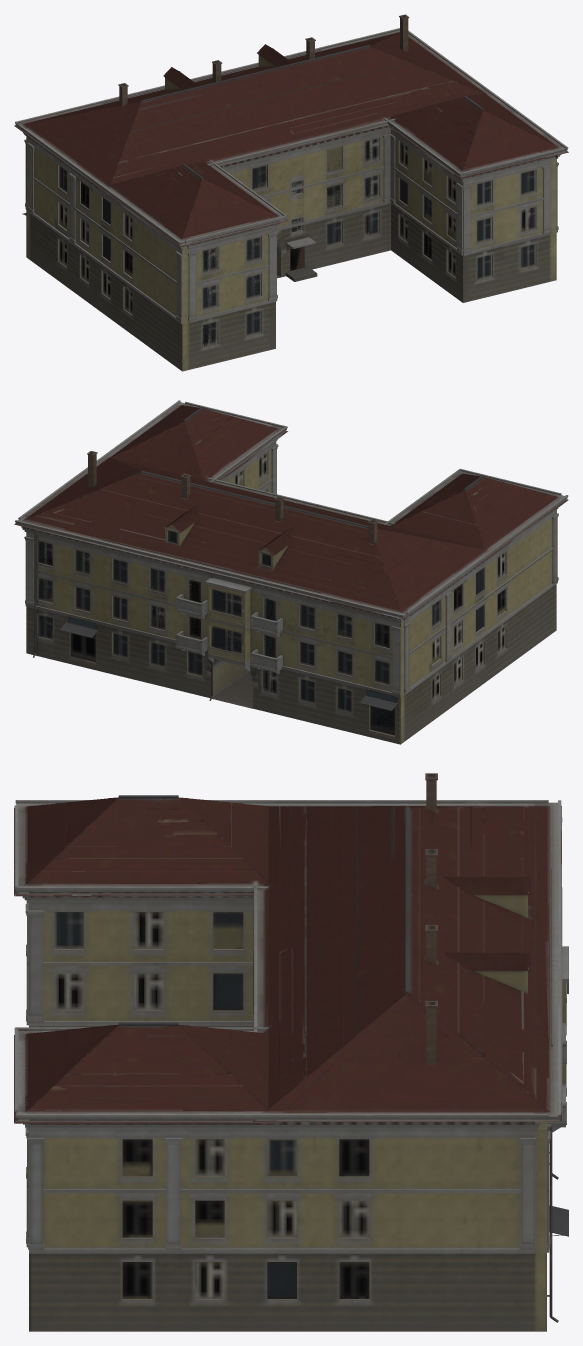
Rendered from bld_st3.glb.
3 renders of one model, top to bottom at view 1: azimuth 30°, elevation 25°; view 2: azimuth 150°, elevation 25°; view 3: azimuth 270°, elevation 25°, orthographic. The views are drawn at different scales.
Visible parts, largest first — view 1: st3_s0, st3_s1f, st3_s1g, st3_s2; view 2: st3_s0, st3_s1f, st3_s1g, st3_s2; view 3: st3_s0, st3_s1f, st3_s1g, st3_s2.
Part boxes in pixels (box(x1,y1,x2,y2)): st3_s0: box(14, 14, 566, 371); st3_s1f: box(15, 15, 568, 371); st3_s1g: box(23, 15, 567, 366); st3_s2: box(14, 35, 567, 247); st3_s0: box(14, 400, 567, 744); st3_s1f: box(15, 401, 568, 743); st3_s1g: box(19, 401, 562, 743); st3_s2: box(49, 405, 568, 735); st3_s0: box(14, 773, 568, 1331); st3_s1f: box(14, 795, 568, 1322); st3_s1g: box(14, 797, 566, 1321); st3_s2: box(14, 773, 561, 1123).
Size of the model in its own units: 37.52 by 16.82 by 27.86.
Materials: 1 (1 with a texture image).
